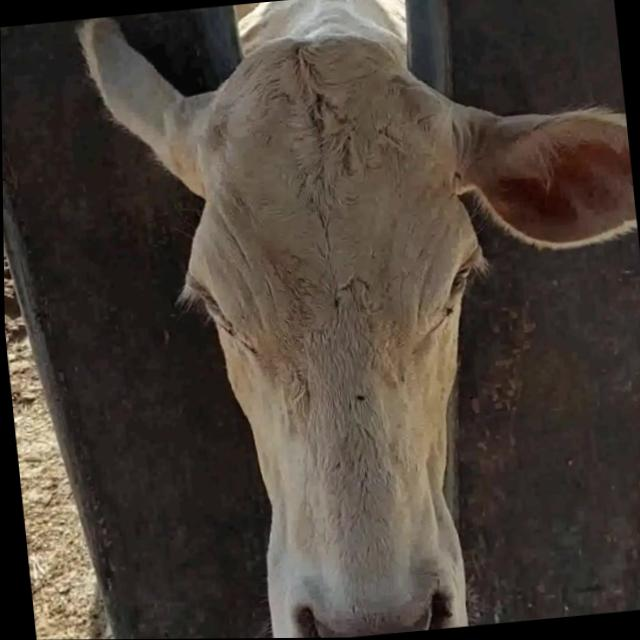cowFace: (166, 14, 513, 639)
